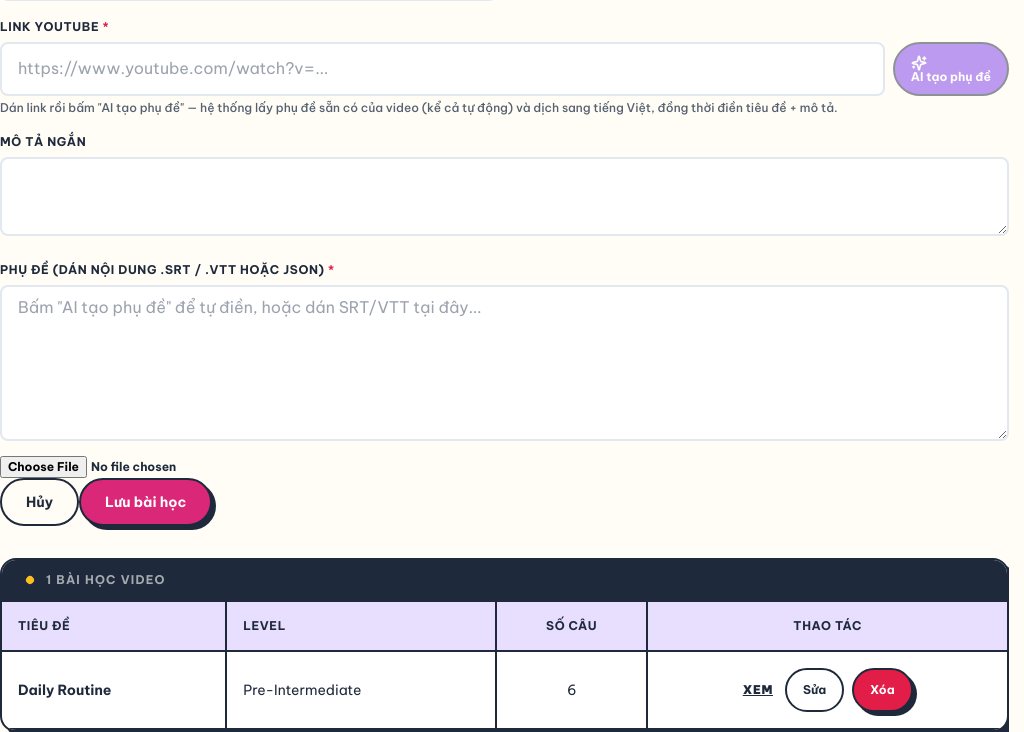
Test case: AdminVideoLessons › rebuilds the YouTube url from youtubeVideoId when opening the edit form
This screenshot has width=1024, height=732.
(page scrolled)
Click the button "Sửa".
click(815, 690)  # box x1=785 y1=668 x2=844 y2=712
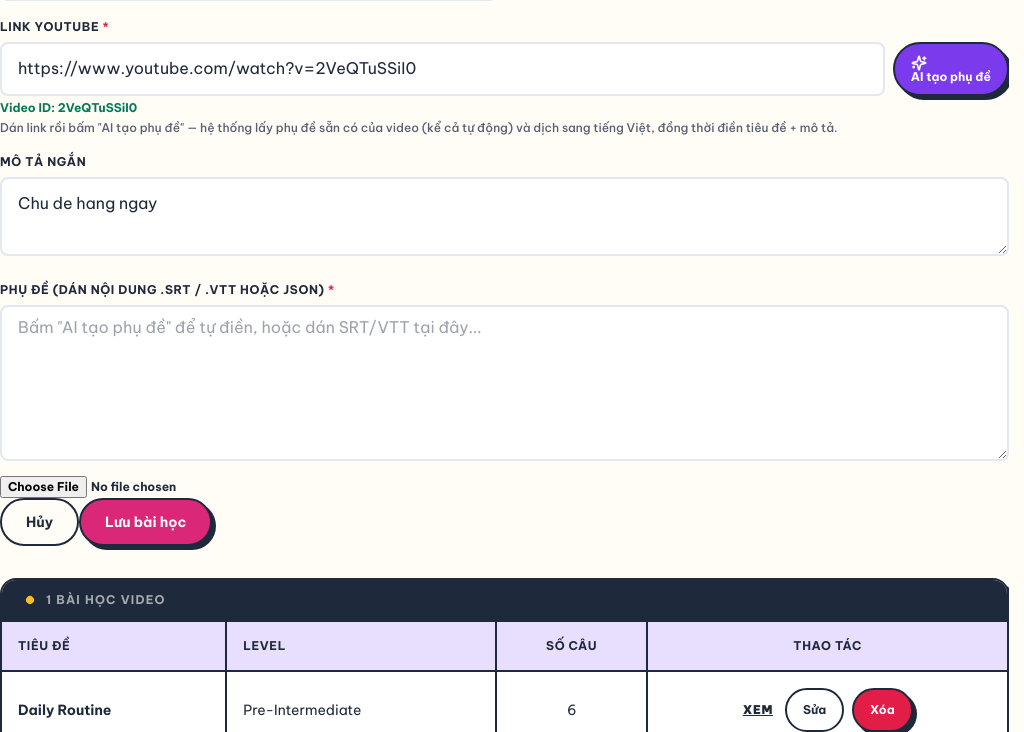
Expected: the text box labelled "Phụ đề (dán nội dung .srt / .vtt hoặc JSON) *" is empty, x1=0 y1=305 x2=1009 y2=461
Expected: the field labelled "Link YouTube *" holds "https://www.youtube.com/watch?v=2VeQTuSSiI0", x1=0 y1=42 x2=885 y2=96
